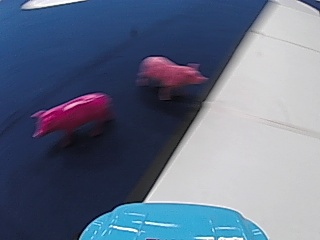pig: (28, 87, 115, 141), (135, 53, 209, 95)
